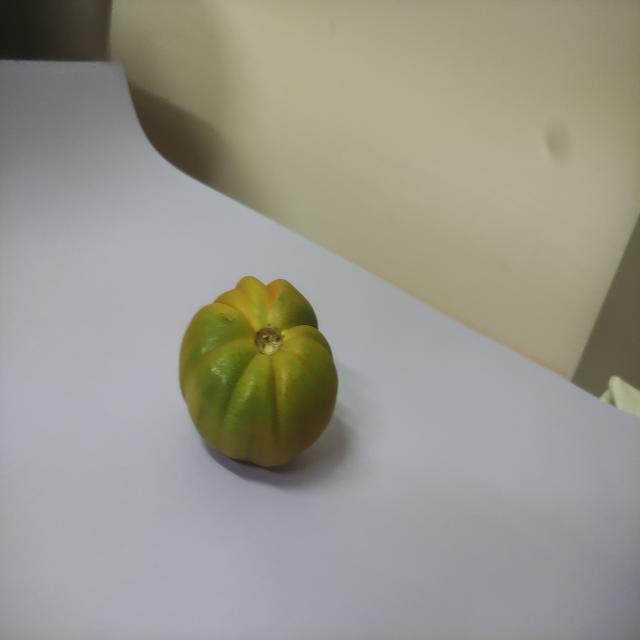yesil: (170, 262, 348, 483)
